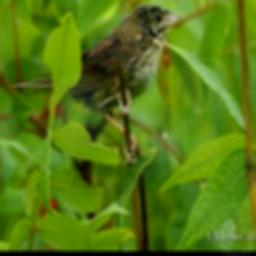Sparrow: (5, 2, 180, 167)
